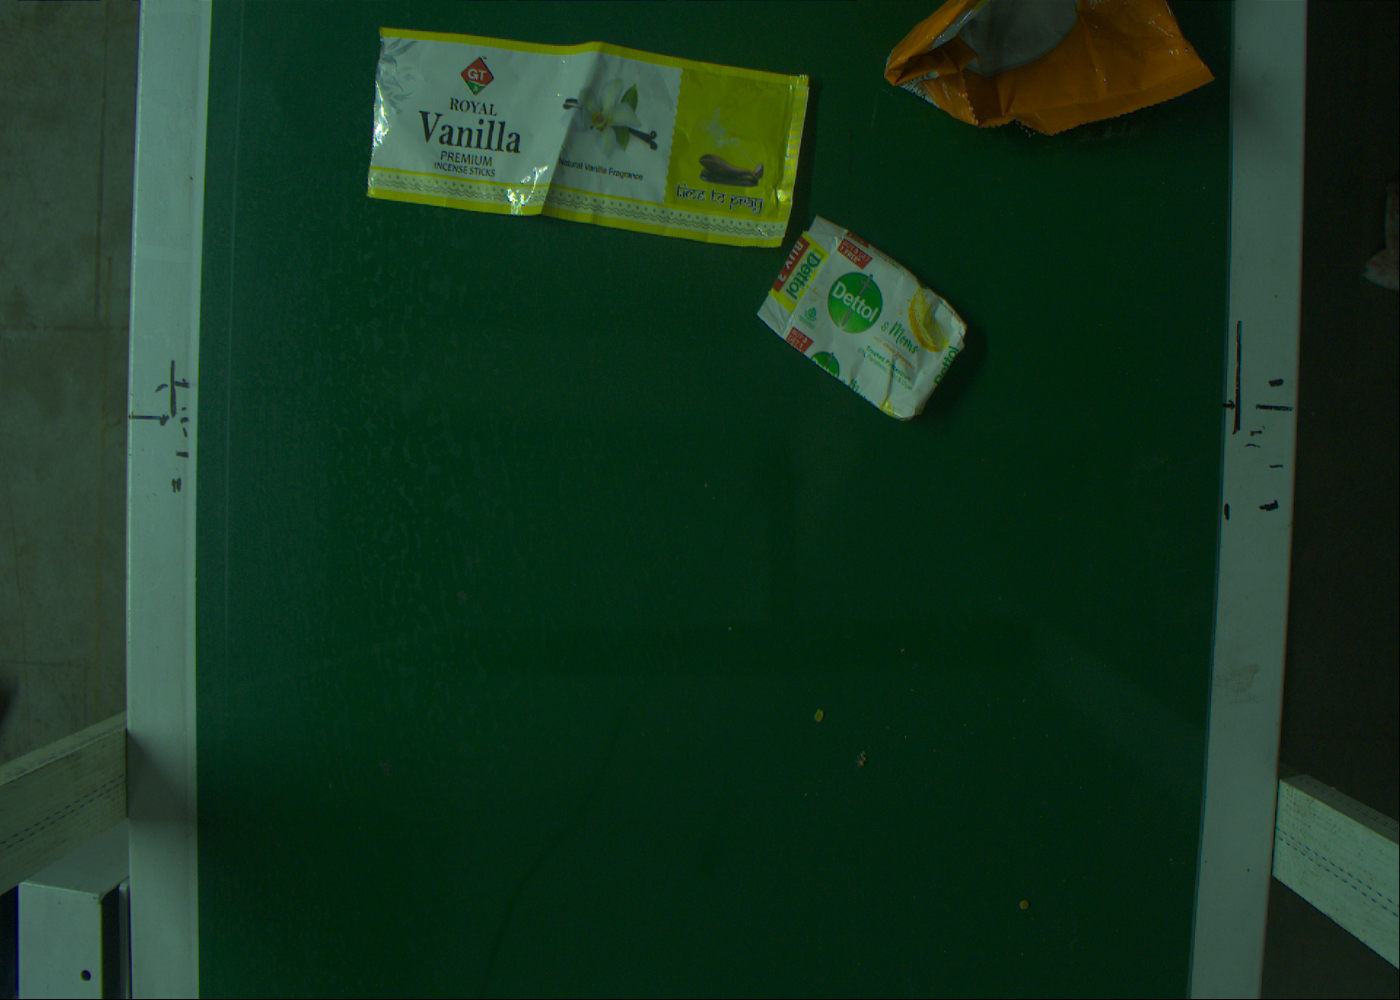multilayer_plastic: (879, 1, 1209, 129)
pp_w: (338, 35, 826, 240), (755, 218, 981, 435)
